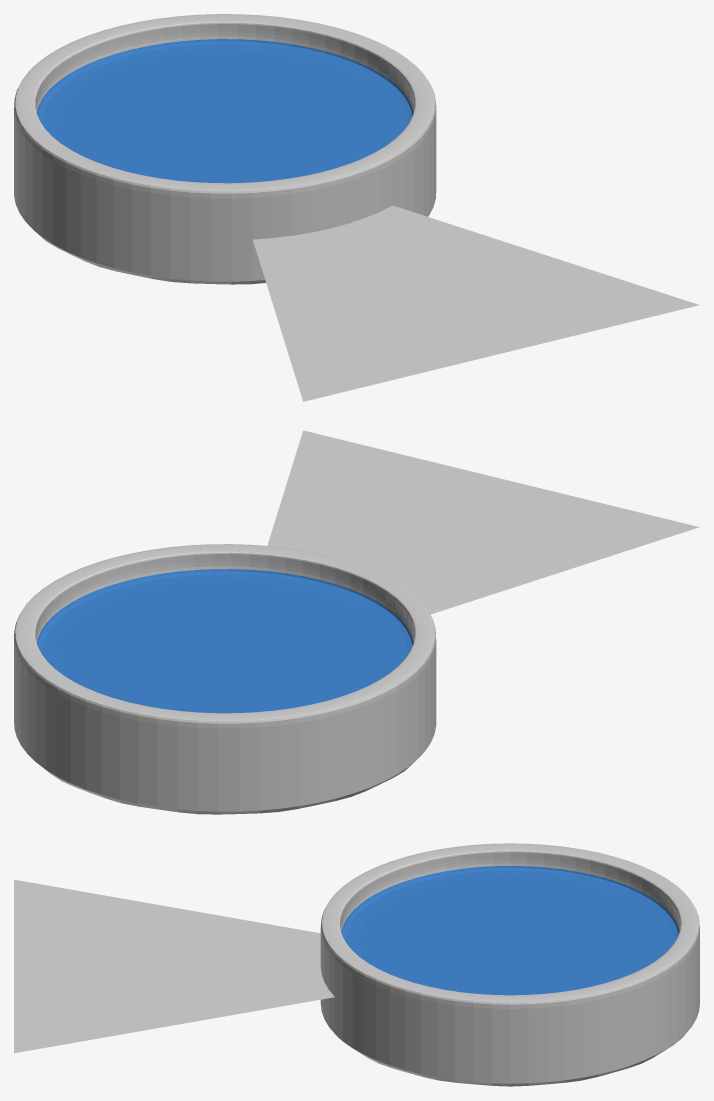
The model's file is UserMarker_Pin.fbx.
3 views of the same model, one above another, from view 1: azimuth 30°, elevation 25°; view 2: azimuth 150°, elevation 25°; view 3: azimuth 270°, elevation 25° (orthographic). The views are drawn at different scales.
Visible parts, largest first — view 1: Dot, Fan; view 2: Dot, Fan; view 3: Dot, Fan.
Part boxes in pixels (x1,y1,x2,y2): Dot: (14, 14, 436, 284); Fan: (253, 205, 699, 401); Dot: (14, 544, 436, 814); Fan: (267, 430, 699, 614); Dot: (320, 843, 699, 1086); Fan: (14, 879, 334, 1053).
Bounding box in the file's own units: 2.12 × 0.4995 × 3.53.
